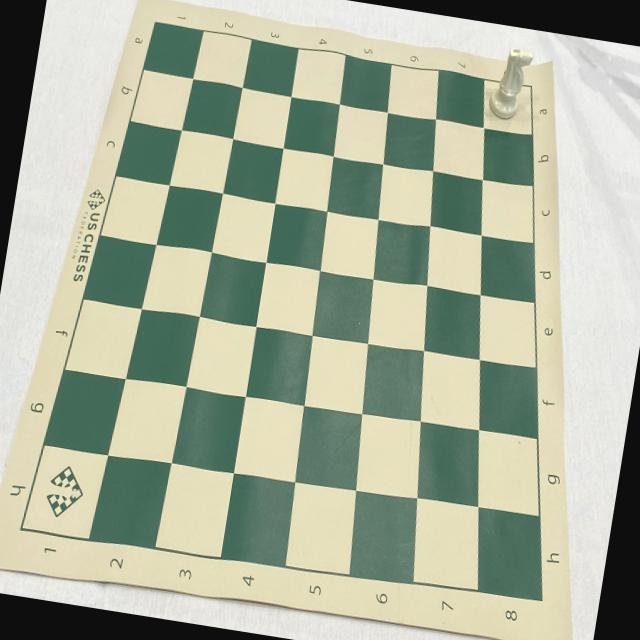white-knight: (486, 43, 535, 125)
